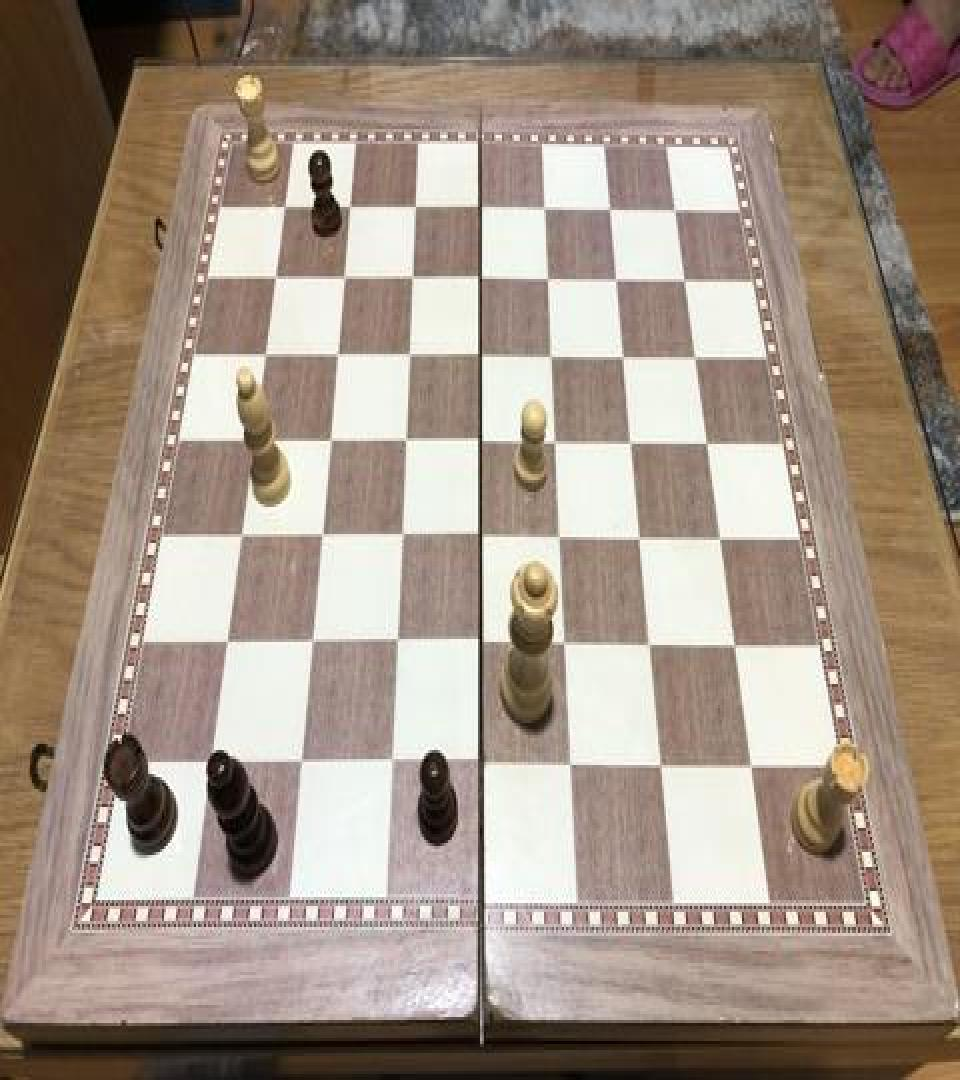xcorner: (722, 625, 746, 662), (638, 625, 662, 662), (553, 625, 577, 662), (469, 625, 493, 662), (384, 625, 408, 662), (300, 625, 324, 662), (215, 625, 239, 662), (663, 189, 687, 225), (598, 189, 622, 225), (533, 189, 557, 225), (468, 189, 492, 225), (403, 189, 427, 225), (338, 189, 362, 225), (273, 189, 297, 225), (683, 336, 707, 372), (612, 336, 636, 372), (540, 336, 564, 372), (469, 336, 493, 372), (397, 338, 421, 374), (325, 338, 349, 374), (253, 338, 277, 374), (695, 423, 719, 459), (620, 423, 644, 459), (544, 423, 568, 459), (469, 423, 493, 459), (393, 423, 417, 459), (318, 423, 342, 459), (242, 423, 266, 459), (708, 518, 732, 554), (628, 518, 652, 554), (549, 519, 573, 555), (469, 519, 493, 555), (389, 519, 413, 555), (309, 519, 333, 555), (229, 519, 253, 555), (739, 746, 763, 782), (649, 747, 673, 783), (559, 747, 583, 783), (469, 747, 493, 783), (379, 747, 403, 783), (289, 747, 313, 783), (199, 747, 223, 783), (673, 260, 697, 295), (605, 260, 629, 295), (537, 260, 561, 295), (468, 260, 492, 295), (400, 260, 424, 295), (332, 260, 356, 295), (264, 260, 288, 295)
